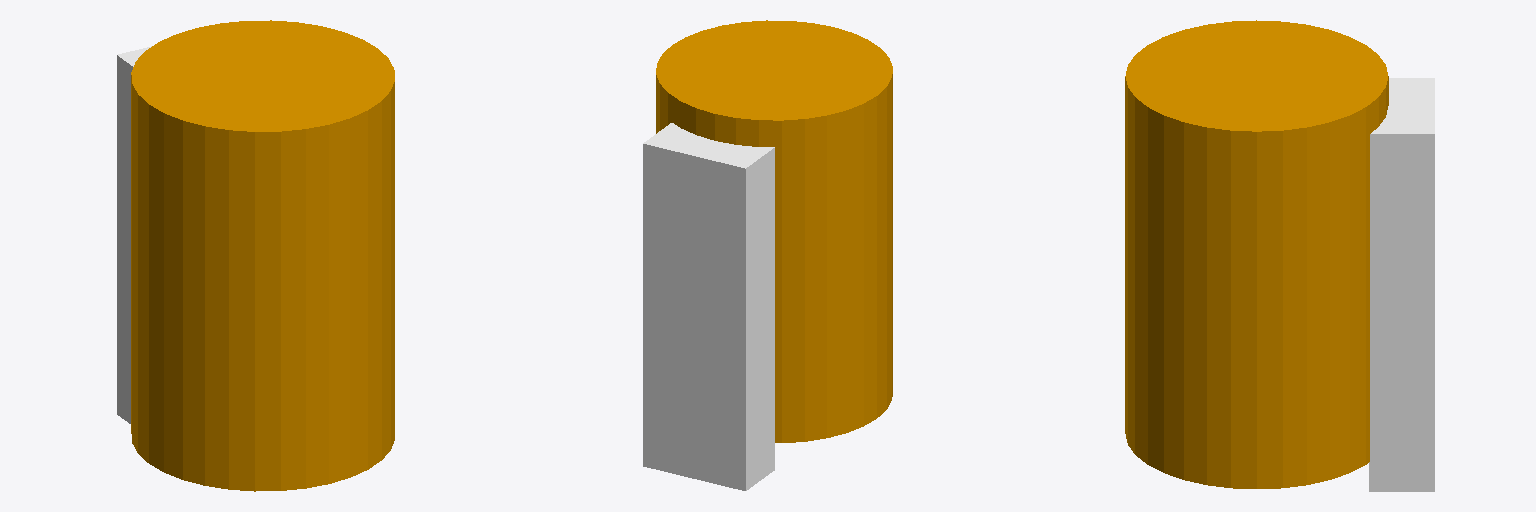
The robot description file, URDF, robot "materials":
<?xml version="1.0"?>
<robot name="materials">
    <material name="blue">
        <color rgba="0 0 0.8 1"/>
    </material>

    <material name="white">
        <color rgba="1 1 1 1"/>
    </material>
    
    <link name="base_link">
        <visual>
            <geometry>
                <cylinder radius="0.2" length="0.6"/>
            </geometry>
        </visual>
    </link>

    <link name="left_leg">
        <visual>
            <geometry>
                <box size="0.6 0.1 0.2"/>
            </geometry>
            <origin rpy="0 1.57075 0" xyz="0 0 -0.3"/>
            <material name="white"/>
        </visual>
    </link>

    <joint name="base_to_left_leg" type="fixed">
        <parent link="base_link"/>
        <child link="left_leg"/>
        <origin xyz="0 0.22 0.25"/>
    </joint>

</robot>

--- What the picture shows (computed from the rendered views, not written in the file) ---
The picture shows the robot from 3 angles, left to right: view 1: azimuth 30°, elevation 25°; view 2: azimuth 150°, elevation 25°; view 3: azimuth 270°, elevation 25°; orthographic projection.
Robot: materials — 2 links, 1 joints (1 fixed); root link base_link; default pose: every joint at zero.
Visible links, largest first — view 1: base_link, left_leg; view 2: base_link, left_leg; view 3: base_link, left_leg.
Link boxes in pixels (x1,y1,x2,y2): base_link: (131,20,394,491); left_leg: (117,46,151,423); base_link: (656,20,892,442); left_leg: (643,123,774,490); base_link: (1125,20,1388,488); left_leg: (1369,78,1434,491).
Size in the robot's own frame: 0.4 by 0.47 by 0.65 metres.
Geometry: primitives only (box / cylinder / sphere), no mesh files.